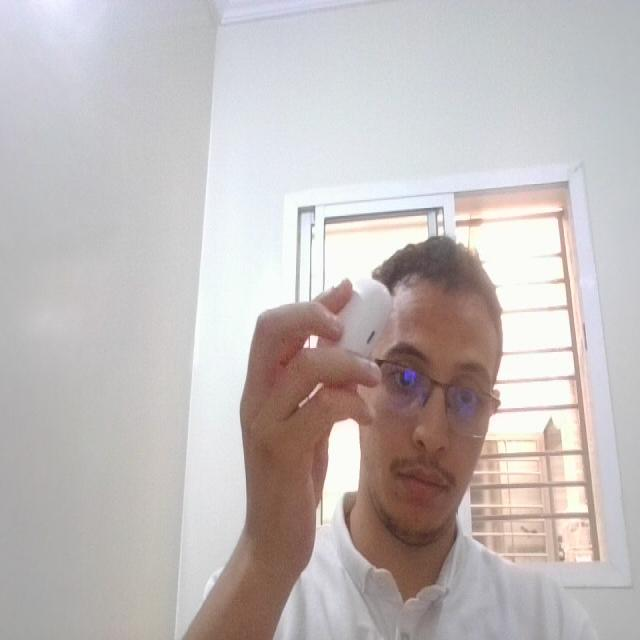airpods: (314, 276, 397, 386)
